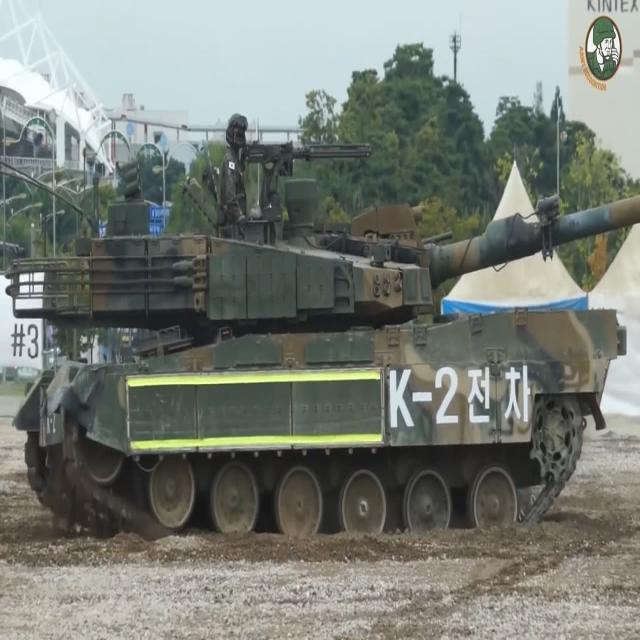korea tank: (5, 106, 640, 540)
